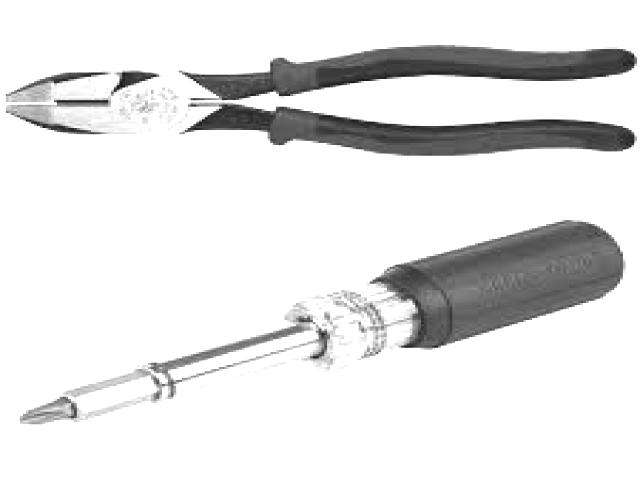Pliers: (5, 47, 635, 155)
Screwdriver: (20, 220, 620, 423)
